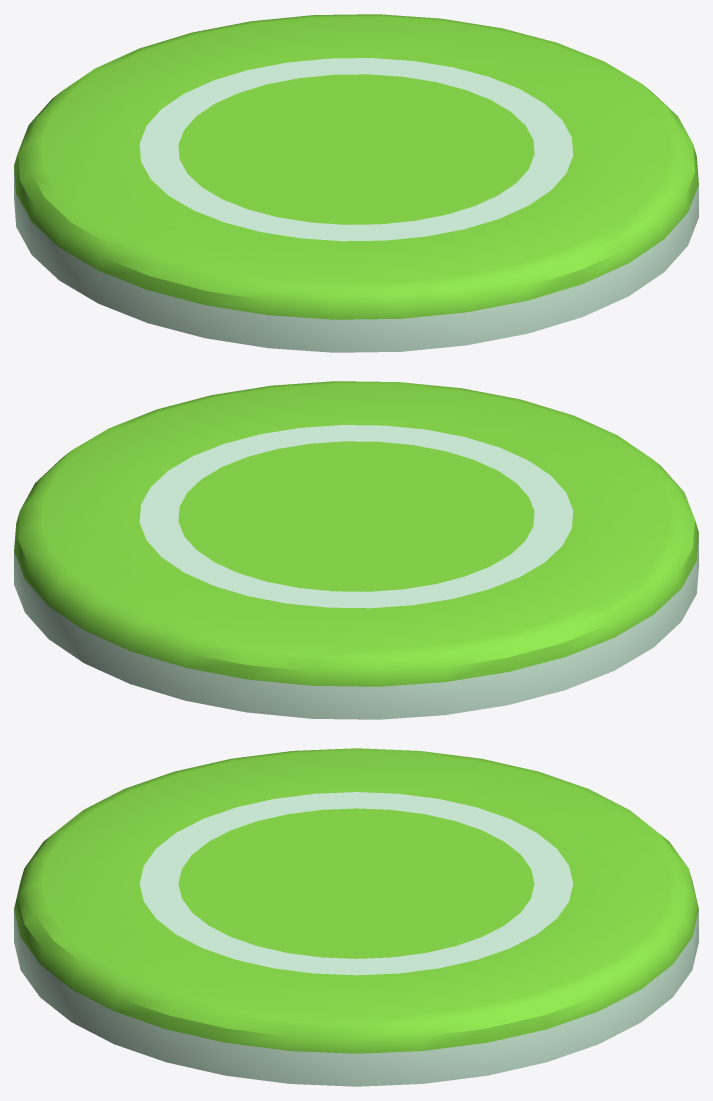
Rendered from Destino.fbx.
The picture shows the model from 3 angles, top to bottom: view 1: azimuth 30°, elevation 25°; view 2: azimuth 150°, elevation 25°; view 3: azimuth 270°, elevation 25°; orthographic projection.
Parts seen in each view (by area): view 1: Destino; view 2: Destino; view 3: Destino.
Part boxes in pixels (<box>): Destino: <box>14,14,698,352</box>; Destino: <box>14,381,698,719</box>; Destino: <box>14,748,698,1086</box>.
Size of the model in its own units: 267 by 267 by 25.05.
